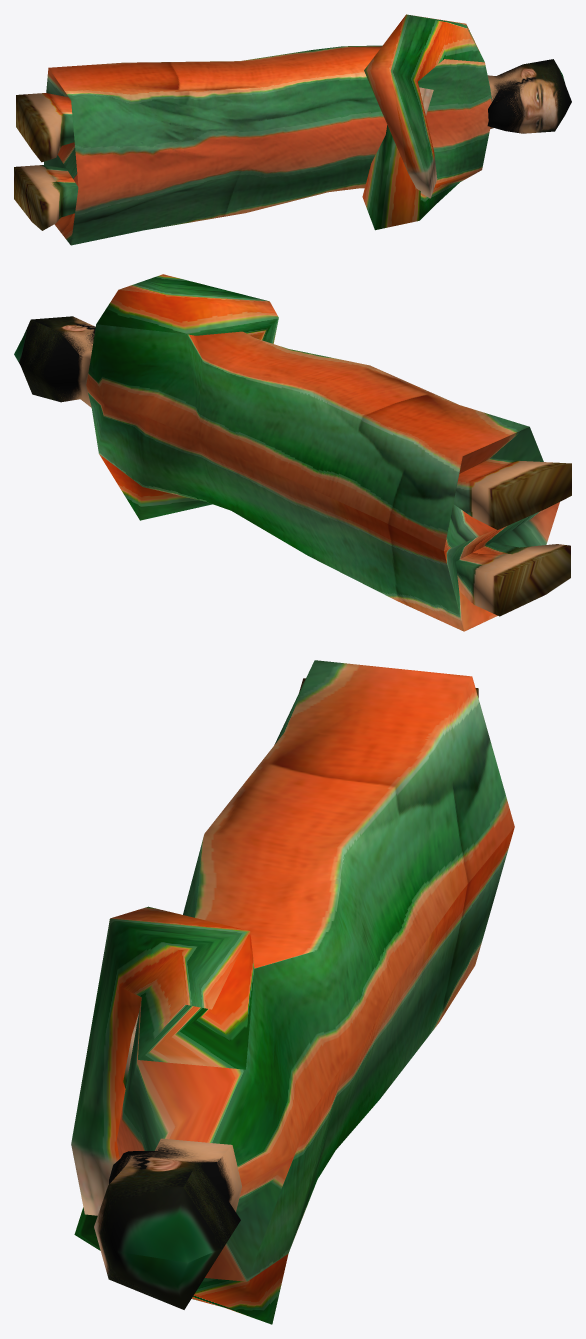
The model's file is man2_92.fbx.
3 renders of one model, top to bottom at view 1: azimuth 30°, elevation 25°; view 2: azimuth 150°, elevation 25°; view 3: azimuth 270°, elevation 25°, orthographic. The views are drawn at different scales.
Visible parts, largest first — view 1: man2_92; view 2: man2_92; view 3: man2_92.
Part boxes in pixels (box(x1,y1,x2,y2)): man2_92: box(14, 14, 571, 245); man2_92: box(14, 274, 571, 631); man2_92: box(71, 660, 514, 1324).
Size of the model in its own units: 37.67 by 13.7 by 14.62.
